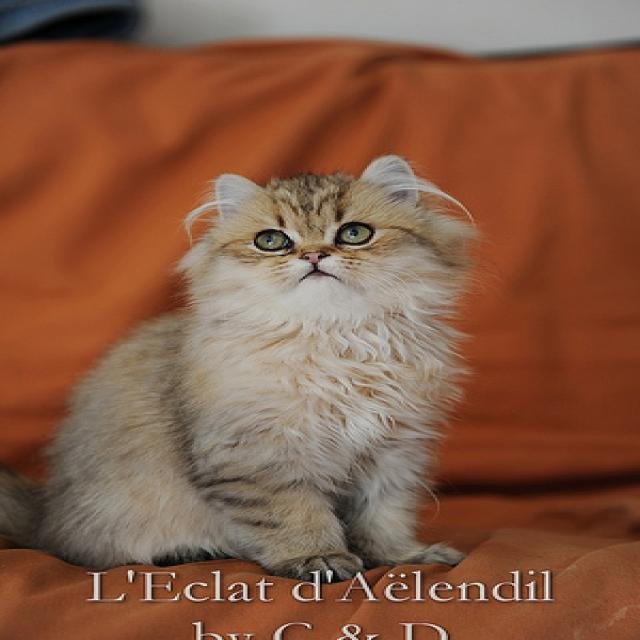Persian: (0, 150, 491, 584)
